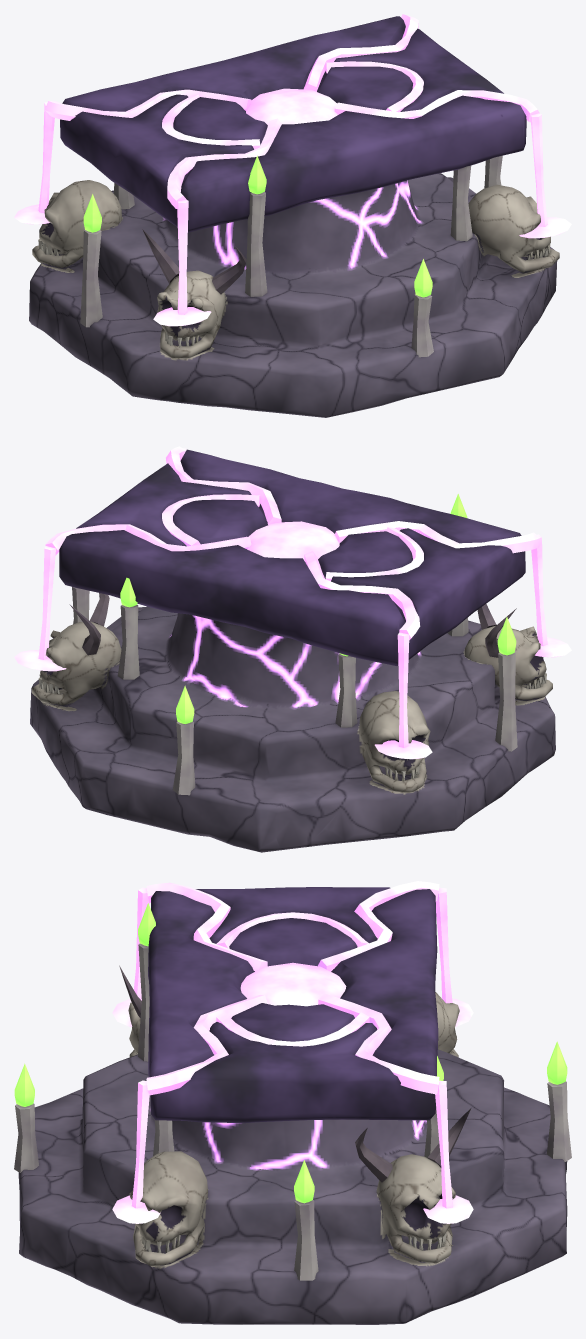
The model's file is altar_sangre.fbx.
3 views of the same model, one above another, from view 1: azimuth 30°, elevation 25°; view 2: azimuth 150°, elevation 25°; view 3: azimuth 270°, elevation 25° (orthographic). The views are drawn at different scales.
Parts seen in each view (by area): view 1: altar, canales_neon, velas_biolum; view 2: altar, canales_neon, velas_biolum; view 3: altar, canales_neon, velas_biolum.
Boxes of the visible parts, x1=… form: altar: x1=29, y1=16, x2=559, y2=417; canales_neon: x1=14, y1=14, x2=571, y2=326; velas_biolum: x1=83, y1=155, x2=432, y2=297; altar: x1=30, y1=449, x2=555, y2=852; canales_neon: x1=14, y1=446, x2=571, y2=759; velas_biolum: x1=120, y1=494, x2=516, y2=723; altar: x1=14, y1=887, x2=571, y2=1324; canales_neon: x1=112, y1=881, x2=473, y2=1223; velas_biolum: x1=14, y1=903, x2=567, y2=1203.
Size of the model in its own units: 6 by 3 by 6.
1 material, 1 textured.
